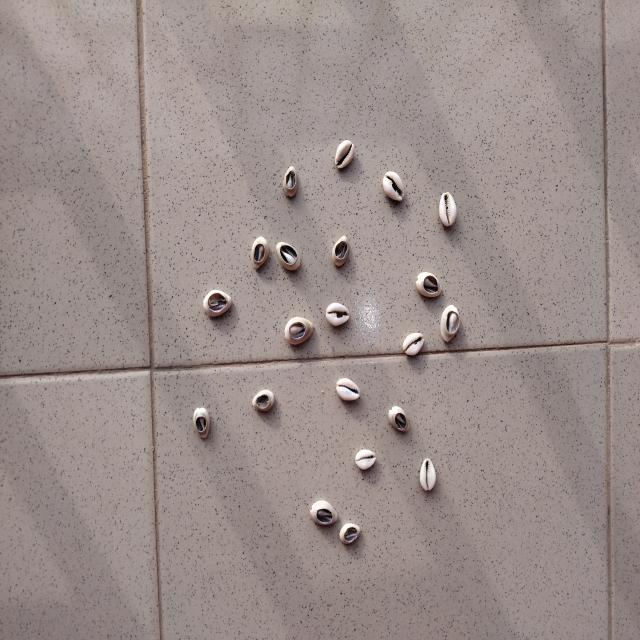facedown: (439, 302, 465, 348), (282, 314, 316, 348), (202, 287, 235, 320), (307, 496, 338, 528), (192, 403, 214, 446), (250, 387, 278, 420), (414, 269, 442, 301), (329, 231, 351, 270), (384, 403, 410, 436), (276, 239, 302, 272), (339, 518, 364, 550), (282, 161, 300, 202), (250, 231, 268, 270)
faceup: (436, 186, 461, 230), (380, 165, 406, 206), (399, 330, 429, 362), (333, 136, 358, 174), (334, 374, 364, 404), (417, 454, 438, 496), (323, 302, 351, 327), (352, 447, 379, 472)
